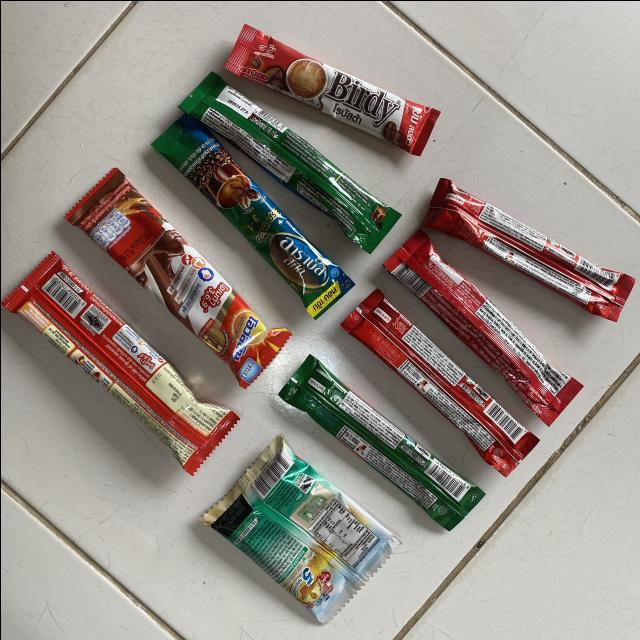plastik: (1, 252, 237, 473), (65, 167, 289, 387), (152, 113, 354, 318), (179, 71, 400, 252), (383, 229, 582, 425), (341, 289, 538, 476), (200, 436, 398, 622), (278, 355, 483, 529), (421, 177, 633, 321), (225, 24, 439, 154)
